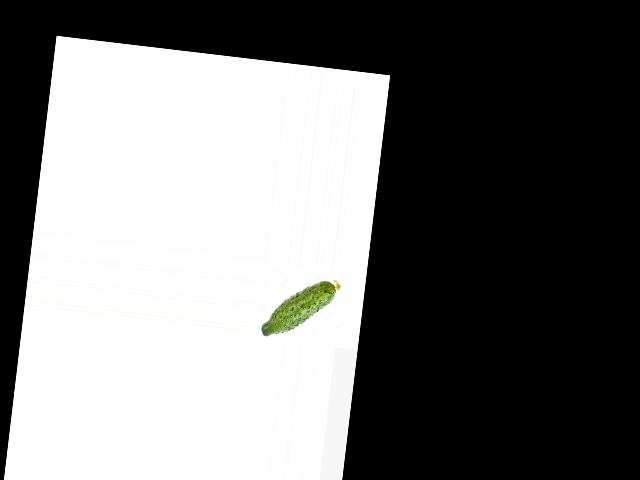cucumber: (261, 272, 341, 344)
